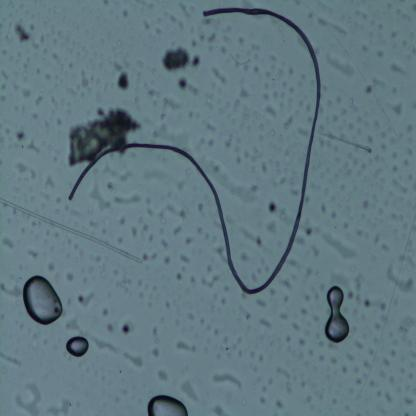Air bubble: (22, 275, 62, 327), (324, 286, 350, 342), (146, 392, 188, 416), (66, 337, 89, 358)
Background material: (62, 101, 141, 162), (205, 158, 259, 202), (66, 317, 120, 355), (12, 380, 43, 416), (321, 233, 359, 262), (159, 45, 200, 70), (263, 70, 288, 106), (384, 265, 414, 292), (326, 51, 355, 76), (141, 77, 165, 107), (87, 178, 110, 209), (250, 254, 273, 283), (319, 14, 349, 36), (110, 264, 131, 294), (212, 372, 242, 390), (109, 51, 131, 74), (179, 378, 200, 402), (240, 227, 264, 248), (136, 216, 154, 242), (148, 120, 172, 139), (15, 161, 38, 180), (149, 328, 162, 360), (244, 38, 262, 61), (174, 338, 199, 354), (29, 34, 49, 54), (388, 58, 408, 78), (303, 263, 322, 284), (77, 289, 97, 308), (115, 193, 142, 207), (165, 202, 186, 220), (188, 26, 206, 47), (12, 22, 30, 43), (219, 23, 231, 54), (18, 49, 30, 80), (0, 350, 20, 368), (48, 399, 71, 414), (350, 156, 368, 174), (125, 352, 144, 369), (197, 16, 220, 30), (210, 64, 226, 84), (0, 284, 22, 298), (201, 272, 218, 290), (162, 96, 181, 112), (212, 242, 227, 262), (336, 159, 351, 179), (78, 69, 92, 90), (399, 245, 416, 262), (113, 165, 131, 181), (24, 138, 42, 154), (137, 280, 151, 300), (116, 70, 130, 90), (285, 176, 299, 196), (286, 86, 297, 111), (219, 337, 232, 358), (179, 2, 194, 20), (272, 172, 288, 188), (210, 401, 227, 416), (402, 38, 416, 56), (232, 333, 247, 349), (388, 101, 404, 116), (240, 304, 253, 322), (303, 101, 314, 122), (143, 196, 154, 217), (70, 240, 86, 254), (275, 365, 291, 379), (121, 317, 134, 334), (396, 325, 408, 343), (220, 130, 232, 148), (354, 273, 366, 291), (51, 50, 65, 65), (287, 258, 302, 272), (264, 219, 280, 232), (157, 366, 170, 382), (375, 313, 387, 330), (236, 86, 251, 99), (263, 104, 278, 117), (281, 277, 294, 292), (284, 379, 295, 396), (141, 251, 158, 262), (167, 14, 184, 25), (13, 128, 26, 142), (2, 236, 14, 251), (380, 354, 392, 369), (267, 54, 277, 72), (204, 121, 219, 133), (45, 176, 56, 192), (267, 198, 278, 214), (0, 65, 10, 82), (296, 125, 309, 138), (172, 223, 185, 236), (47, 96, 60, 109), (395, 179, 407, 193), (177, 77, 189, 91), (28, 247, 40, 261), (374, 76, 386, 90), (189, 82, 201, 96), (259, 316, 273, 328), (283, 118, 295, 132), (64, 268, 75, 283), (388, 330, 398, 346), (353, 10, 369, 20), (310, 244, 320, 260), (366, 378, 382, 388), (404, 382, 416, 395), (118, 384, 131, 396), (255, 296, 267, 309), (237, 250, 249, 263), (320, 165, 333, 177), (141, 17, 152, 31), (390, 212, 404, 223), (182, 274, 197, 284), (258, 393, 268, 408), (314, 331, 324, 346), (22, 87, 34, 99), (311, 286, 320, 302), (180, 364, 192, 376), (357, 43, 370, 54), (157, 238, 170, 249), (100, 304, 110, 318), (87, 256, 104, 264), (46, 261, 57, 273), (384, 390, 395, 402), (357, 115, 368, 127), (183, 234, 195, 245), (354, 339, 365, 351), (207, 32, 217, 45), (379, 242, 392, 252), (180, 252, 190, 265), (323, 114, 332, 128), (274, 397, 285, 408), (389, 29, 400, 40), (260, 383, 271, 394), (315, 351, 326, 362), (388, 136, 400, 146), (290, 321, 300, 333), (378, 302, 388, 314), (404, 122, 414, 134), (353, 291, 362, 304), (49, 151, 58, 164), (406, 144, 414, 158), (381, 128, 389, 142), (364, 84, 374, 95), (278, 310, 289, 320), (120, 8, 131, 18), (349, 305, 359, 316), (374, 152, 384, 163), (44, 72, 55, 82), (118, 214, 128, 225), (328, 356, 339, 366), (89, 219, 99, 230), (360, 108, 370, 119), (50, 196, 62, 205), (195, 203, 204, 215), (334, 93, 343, 105), (372, 333, 381, 345), (311, 312, 320, 324), (130, 226, 139, 238), (238, 36, 247, 48), (308, 394, 315, 409), (304, 226, 314, 236), (64, 60, 74, 70), (296, 236, 306, 246), (106, 322, 116, 332), (376, 48, 385, 59), (162, 299, 171, 310), (30, 334, 38, 346), (288, 64, 296, 76), (320, 202, 328, 214), (235, 154, 243, 166), (325, 97, 333, 109), (340, 180, 348, 192), (364, 297, 371, 310), (352, 364, 361, 374), (341, 220, 350, 230), (256, 353, 265, 363), (282, 334, 292, 343), (302, 293, 312, 302), (406, 371, 416, 380), (321, 140, 332, 148), (380, 141, 388, 152), (0, 81, 8, 92), (402, 156, 410, 167), (385, 1, 393, 12), (345, 289, 353, 300), (341, 106, 348, 118), (30, 21, 38, 31), (368, 347, 378, 355), (211, 292, 221, 300), (332, 112, 340, 122), (367, 136, 375, 146), (349, 263, 357, 273), (238, 350, 246, 360), (206, 140, 216, 148), (19, 226, 27, 236), (390, 86, 398, 96), (252, 63, 260, 73), (298, 337, 306, 347), (374, 234, 382, 244), (388, 349, 398, 357), (346, 352, 356, 360), (99, 0, 112, 6), (306, 347, 313, 358), (66, 298, 74, 307), (405, 397, 414, 405), (330, 393, 336, 405), (347, 122, 356, 130), (355, 128, 364, 136), (374, 388, 383, 396), (283, 294, 291, 303), (356, 377, 364, 386), (362, 199, 370, 208), (56, 116, 63, 126), (341, 364, 348, 374), (373, 120, 380, 130), (300, 380, 307, 390), (234, 96, 240, 107), (36, 94, 42, 105), (408, 350, 416, 358), (44, 230, 52, 238), (175, 272, 183, 280), (330, 211, 338, 219), (402, 14, 410, 22), (188, 113, 196, 121), (30, 112, 38, 120), (301, 308, 310, 315), (262, 161, 267, 173), (392, 150, 398, 160), (152, 283, 158, 293), (350, 97, 355, 109), (268, 375, 274, 385), (220, 297, 228, 304), (239, 291, 247, 298), (269, 287, 276, 295), (333, 144, 340, 152), (205, 324, 212, 332), (248, 351, 256, 358), (107, 185, 115, 192), (348, 152, 355, 160), (252, 364, 259, 372), (388, 377, 396, 384), (411, 1, 416, 12), (367, 156, 372, 167), (115, 238, 124, 244), (364, 359, 370, 368), (345, 402, 350, 412), (187, 313, 194, 320), (165, 256, 172, 263), (348, 388, 355, 395), (395, 8, 402, 15), (400, 366, 407, 373), (49, 246, 57, 252), (387, 190, 393, 198), (42, 338, 48, 346), (214, 328, 220, 336), (200, 317, 206, 325), (0, 314, 6, 322), (291, 374, 297, 382), (52, 232, 60, 238), (331, 180, 336, 189), (383, 200, 390, 206), (362, 371, 367, 379), (114, 396, 119, 404), (392, 166, 398, 172), (0, 96, 6, 102), (100, 376, 106, 382), (378, 207, 382, 215), (306, 196, 311, 201), (370, 20, 375, 25), (380, 24, 384, 30), (404, 412, 410, 416), (325, 188, 329, 194), (343, 120, 347, 124), (242, 401, 246, 405), (411, 106, 416, 108)
Glass filter fibre: (0, 196, 143, 264), (321, 131, 371, 153), (230, 54, 252, 66)
Microfibre: (70, 7, 321, 294)
